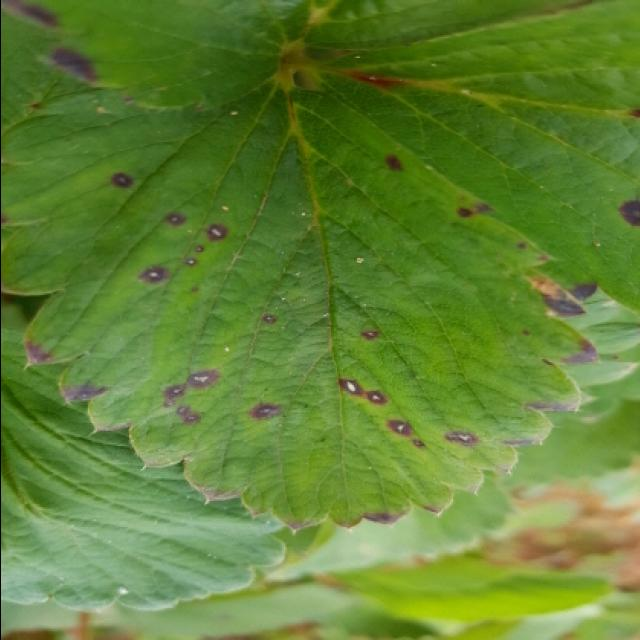Leaf Spot: (2, 70, 599, 535), (302, 0, 640, 315)
